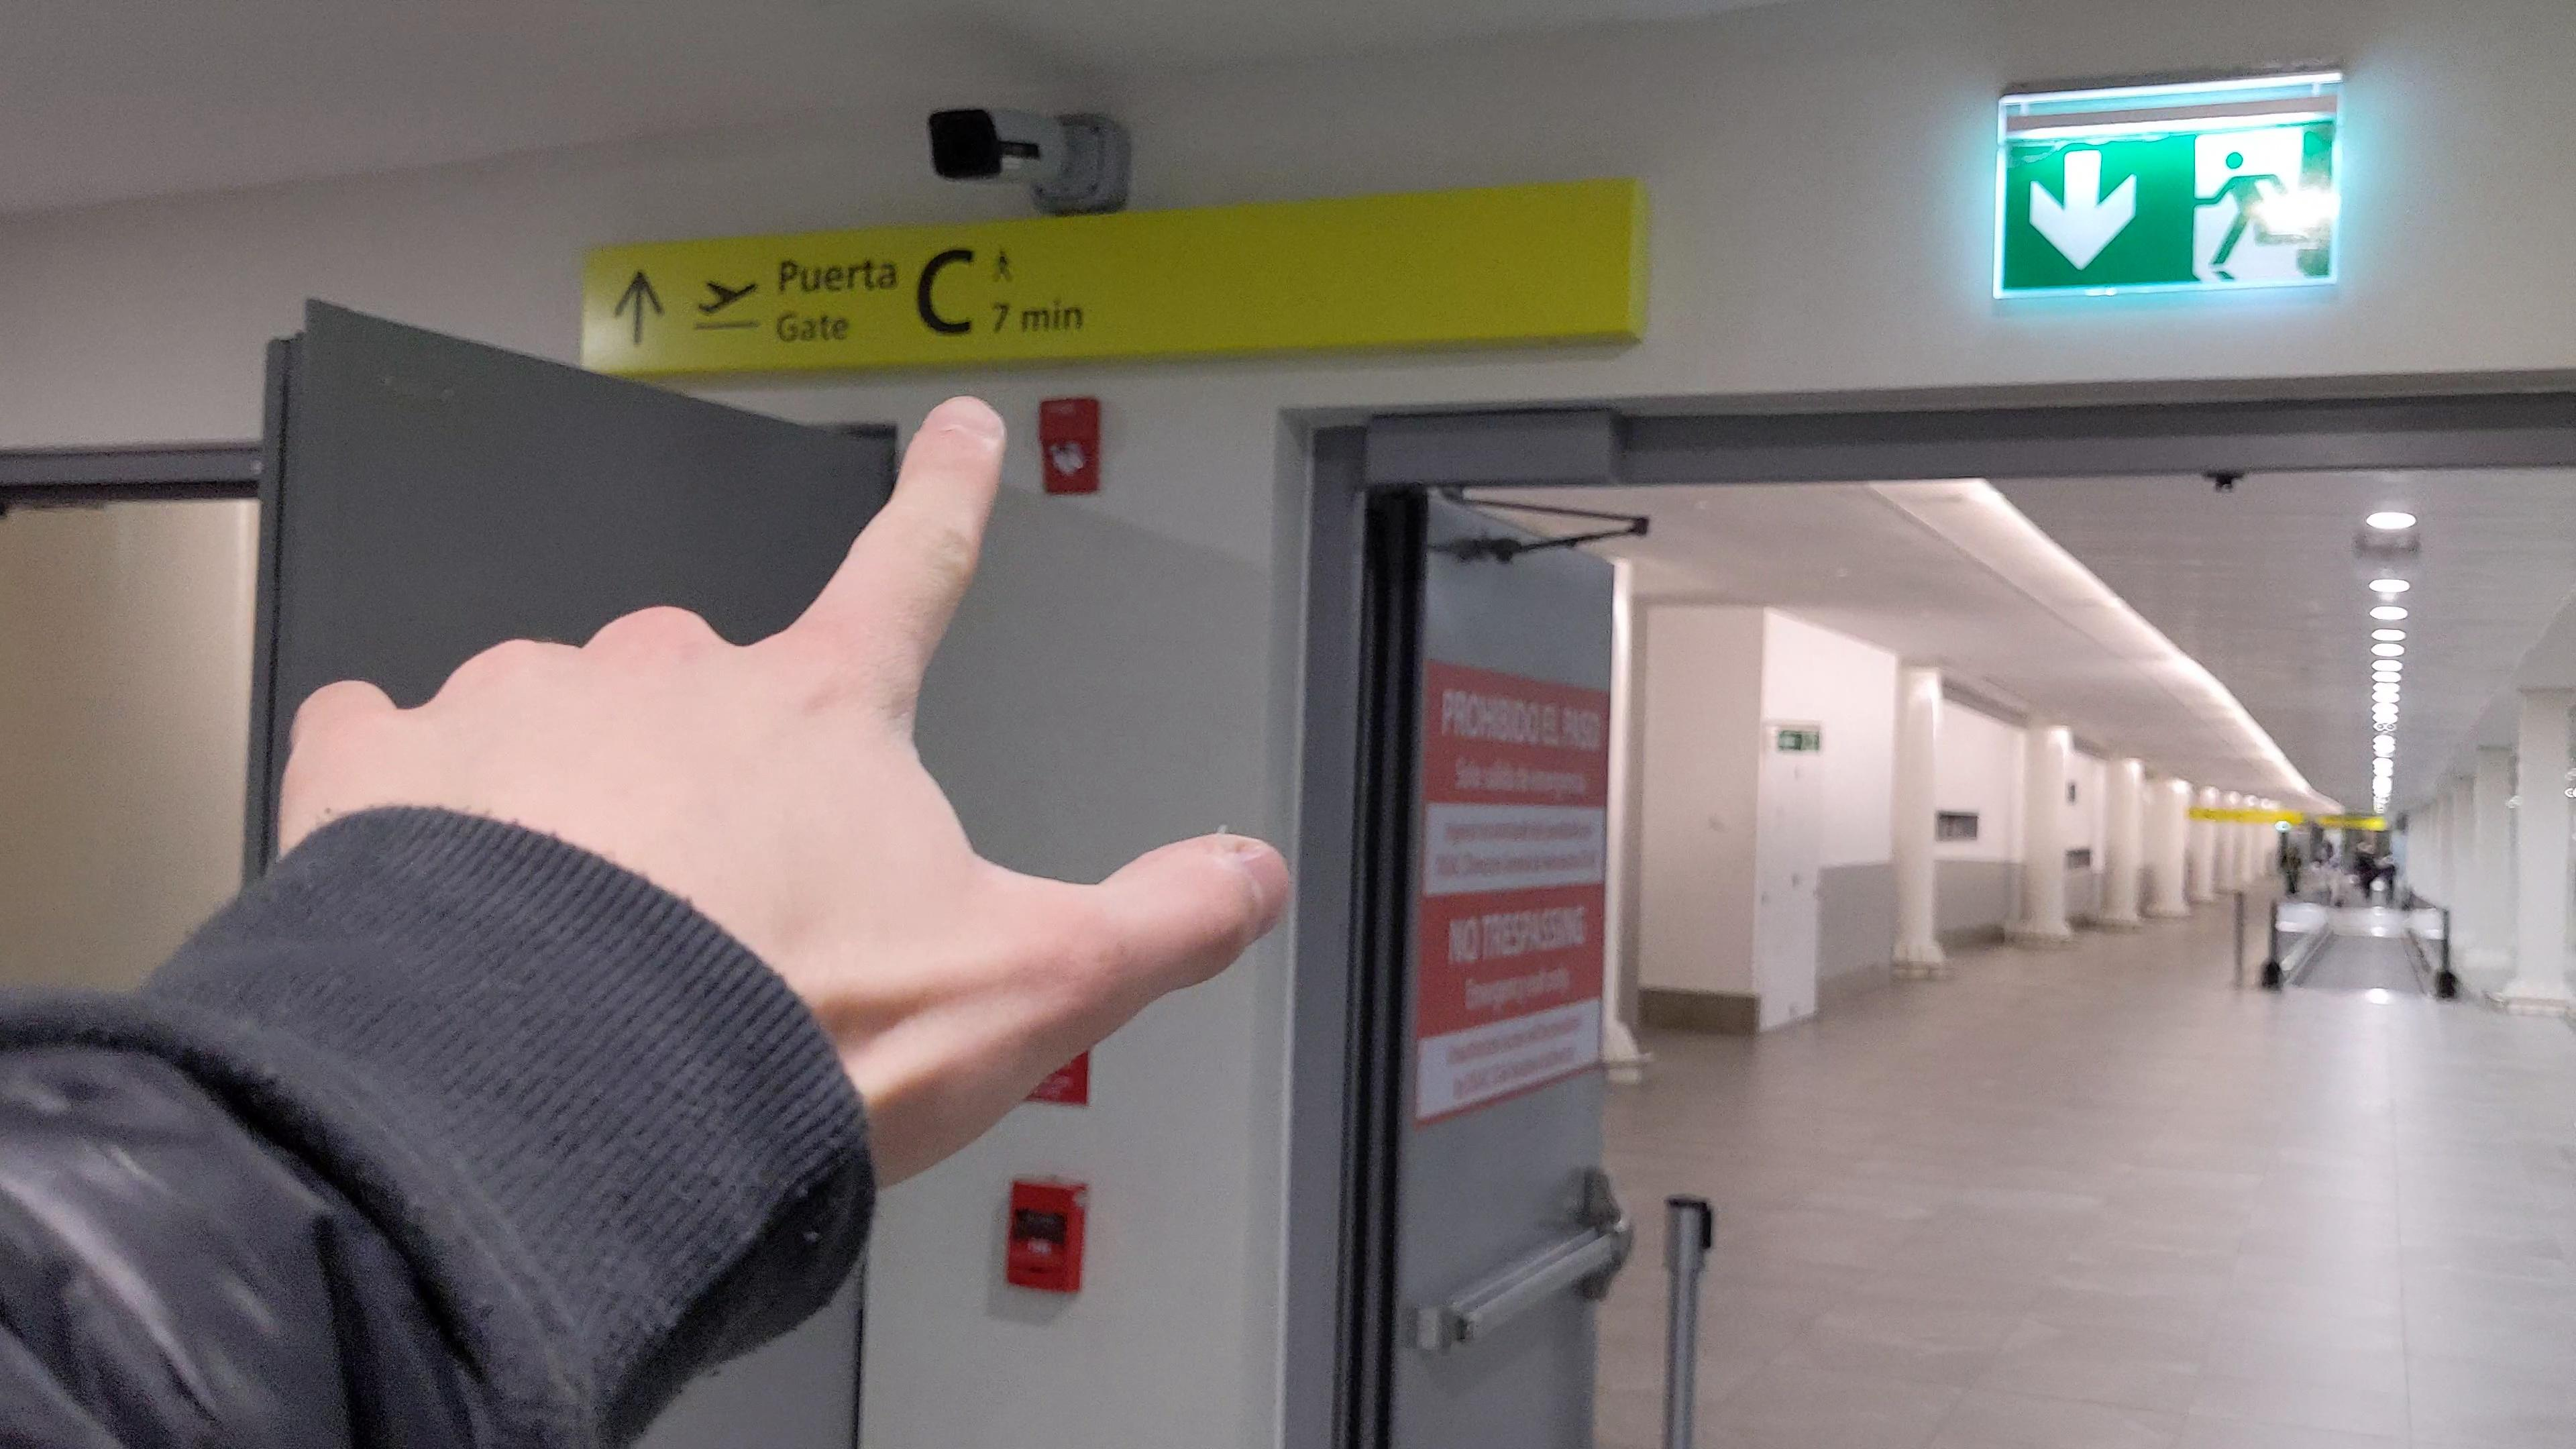airplane symbol: (692, 278, 763, 318)
emergency down arrow: (2024, 149, 2144, 271)
emergency exit: (2171, 122, 2328, 290)
no trespassing: (1419, 648, 1612, 1129)
thin right arrow: (609, 262, 671, 349)
